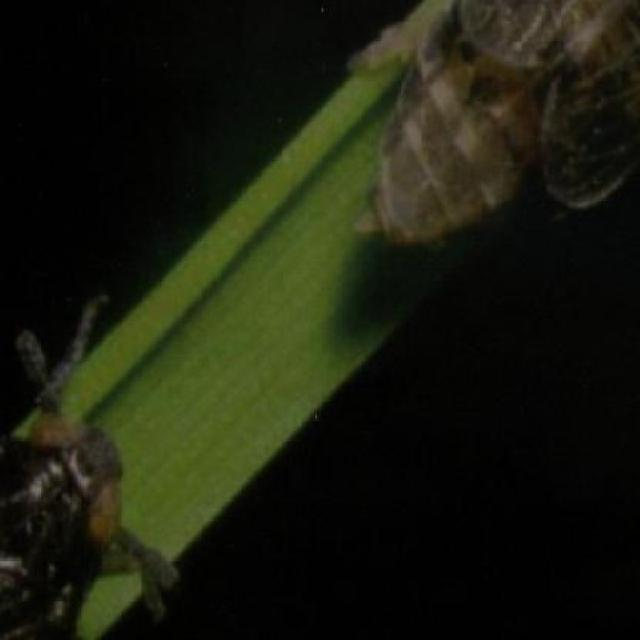brown-planthopper: (356, 0, 640, 250), (0, 408, 169, 640)
